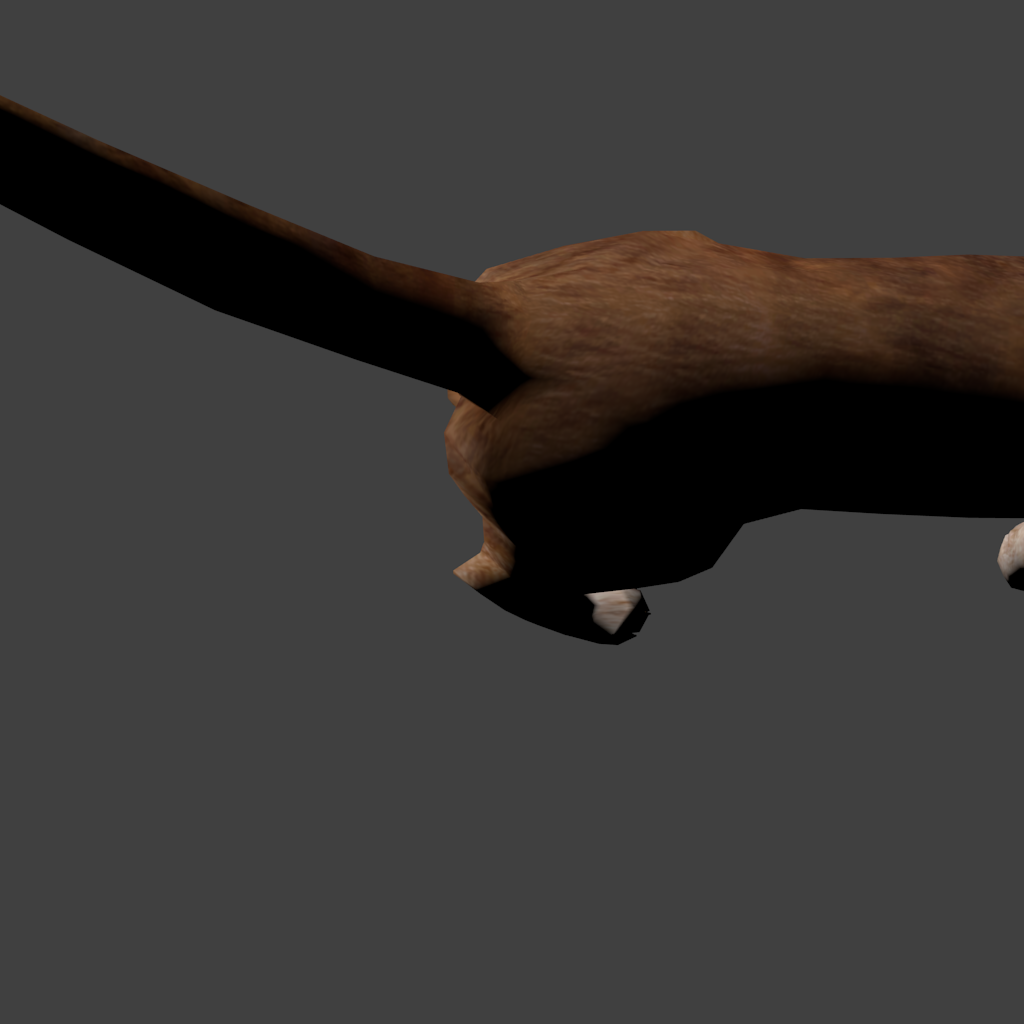Cat: (0, 0, 1024, 645)
